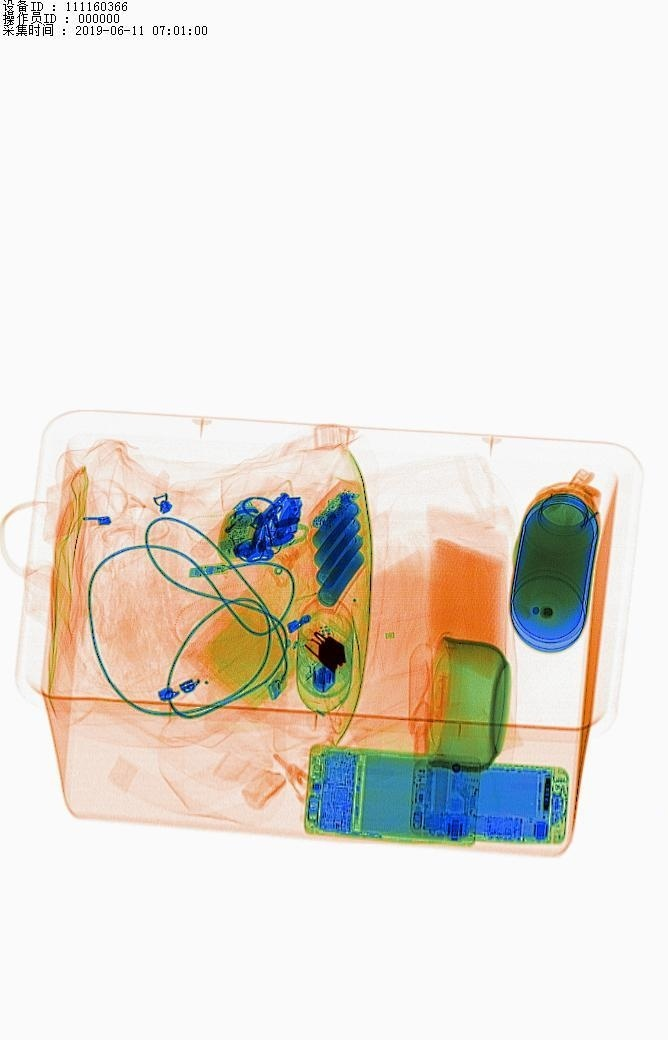NonmetallicFire: (178, 475, 258, 578)
